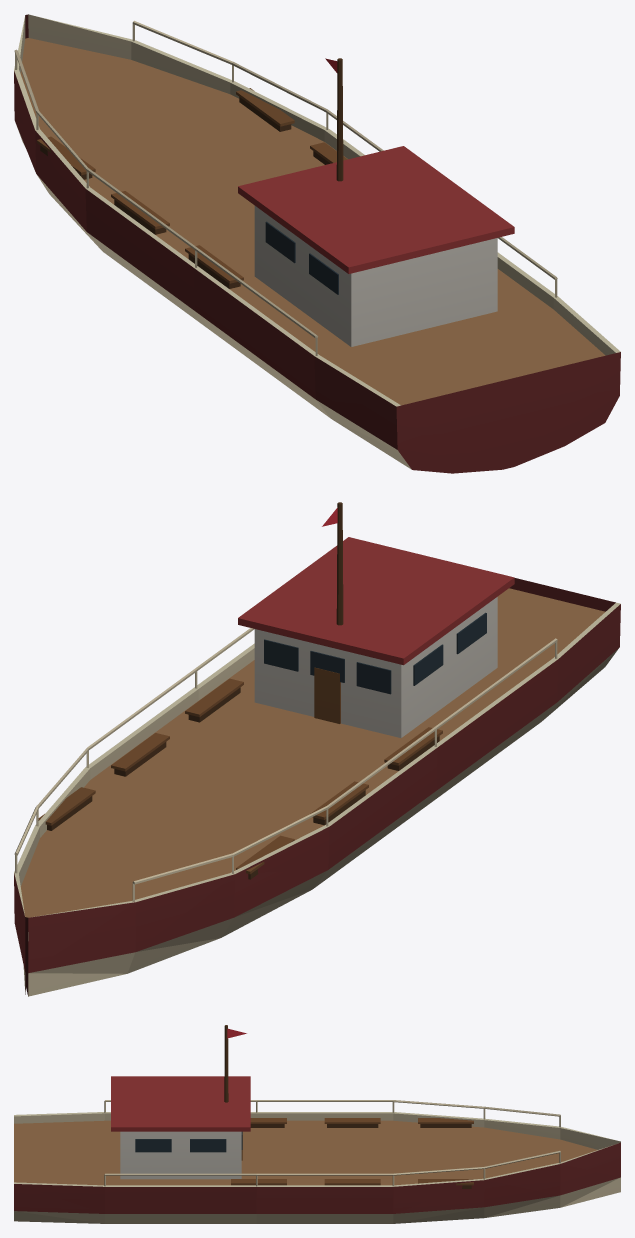
Rendered from boat.fbx.
3 views of the same model, one above another, from view 1: azimuth 30°, elevation 25°; view 2: azimuth 150°, elevation 25°; view 3: azimuth 270°, elevation 25° (orthographic). The views are drawn at different scales.
Parts seen in each view (by area): view 1: boat_0; view 2: boat_0; view 3: boat_0.
Boxes of the visible parts, x1,y1,x2,y2 form: boat_0: (14,14,620,473); boat_0: (14,502,620,996); boat_0: (14,1025,620,1223).
Bounding box in the file's own units: 7.6 × 8.5 × 26.
